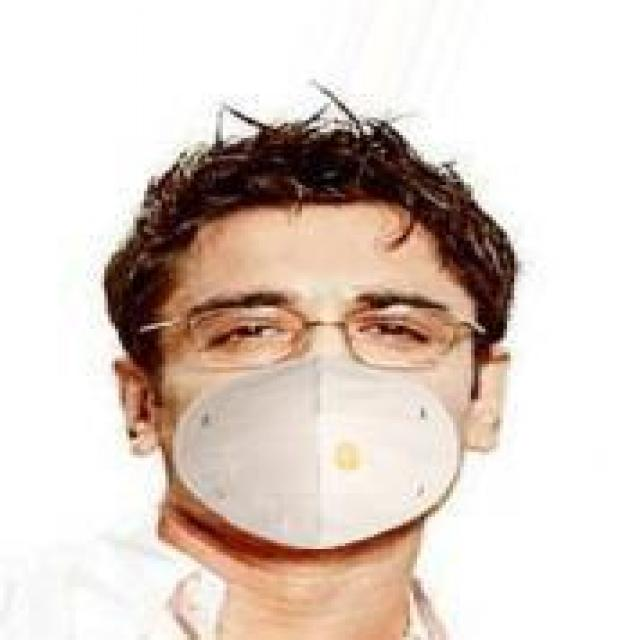mask: (68, 94, 514, 552)
